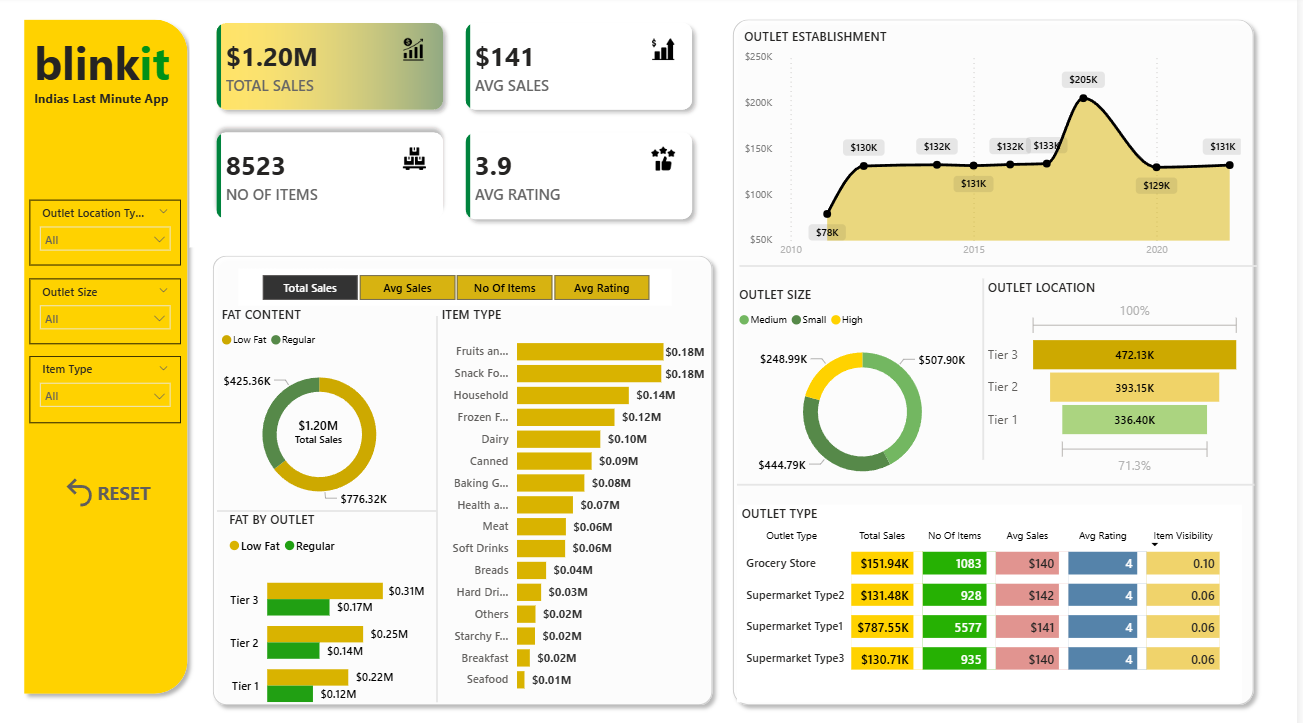

Layout of this report page (visuals, bound fields, positions):
{"tool":"powerbi","page":{"name":"Page 1","canvas":[1400,800],"ordinal":0},"visuals":[{"type":"shape","box":[25.5,16.1,193,741.3],"z":0},{"type":"textbox","box":[272.1,667.6,225.2,89.8],"z":1000},{"type":"textbox","box":[550.9,644.8,252,112.6],"z":2000},{"type":"textbox","box":[40.2,33.5,163.5,77.7],"z":3000},{"type":"textbox","box":[40.2,95.2,162.2,32.2],"z":4000},{"type":"cardVisual","fields":{"Data":["BlinkIT Grocery Data.Total Sales","BlinkIT Grocery Data.Avg Sales","BlinkIT Grocery Data.No Of Items","BlinkIT Grocery Data.Avg Rating"]},"box":[211.8,0,569.7,269.4],"z":5000},{"type":"shape","box":[227.9,269.4,553.6,500],"z":6000},{"type":"donutChart","title":"FAT CONTENT","fields":{"Y":["BlinkIT Grocery Data.Total Sales"],"Category":["BlinkIT Grocery Data.Item Fat Content"]},"box":[241.3,332.4,219.8,230.6],"z":7000},{"type":"slicer","fields":{"Values":["Metrics.Metrics"]},"box":[264.1,292.2,465.1,40.2],"z":8000},{"type":"cardVisual","fields":{"Data":["BlinkIT Grocery Data.Total Sales"]},"box":[289.5,424.9,122,83.1],"z":9000},{"type":"clusteredBarChart","title":"FAT BY OUTLET","fields":{"Y":["BlinkIT Grocery Data.Total Sales"],"Category":["BlinkIT Grocery Data.Outlet Location Type"],"Series":["BlinkIT Grocery Data.Item Fat Content"]},"box":[249.3,552.3,219.8,230.6],"z":10000},{"type":"shape","box":[241.3,530.8,235.9,42.9],"z":11000},{"type":"shape","box":[438.3,343.2,77.7,414.2],"z":12000},{"type":"barChart","title":"ITEM TYPE","fields":{"Y":["BlinkIT Grocery Data.Total Sales"],"Category":["BlinkIT Grocery Data.Item Type"]},"box":[477.2,332.4,292.2,424.9],"z":13000},{"type":"shape","box":[785.5,16.1,576.4,753.4],"z":14000},{"type":"lineChart","title":"OUTLET ESTABLISHMENT","fields":{"Y":["BlinkIT Grocery Data.Total Sales"],"Category":["BlinkIT Grocery Data.Outlet Establishment Year"]},"box":[801.6,33.5,542.9,256],"z":15000},{"type":"shape","box":[801.6,268.1,555,42.9],"z":16000},{"type":"donutChart","title":"OUTLET SIZE","fields":{"Y":["BlinkIT Grocery Data.Total Sales"],"Category":["BlinkIT Grocery Data.Outlet Size"]},"box":[796.3,311,274.8,225.2],"z":17000},{"type":"shape","box":[1024.1,303,77.7,194.4],"z":18000},{"type":"funnel","title":"OUTLET LOCATION","fields":{"Y":["Sum(BlinkIT Grocery Data.Sales)"],"Category":["BlinkIT Grocery Data.Outlet Location Type"]},"box":[1063,303,281.5,215.8],"z":19000},{"type":"shape","box":[798.9,502.7,555,42.9],"z":20000},{"type":"pivotTable","title":"OUTLET TYPE","fields":{"Rows":["BlinkIT Grocery Data.Outlet Type"],"Values":["BlinkIT Grocery Data.Total Sales","BlinkIT Grocery Data.No Of Items","BlinkIT Grocery Data.Avg Sales","BlinkIT Grocery Data.Avg Rating","Avg(BlinkIT Grocery Data.Item Visibility)"]},"box":[798.9,545.6,541.6,211.8],"z":21000},{"type":"slicer","fields":{"Values":["BlinkIT Grocery Data.Outlet Location Type"]},"box":[40.5,218.3,162.1,70.2],"z":22000},{"type":"slicer","fields":{"Values":["BlinkIT Grocery Data.Outlet Size"]},"box":[40.5,302.4,162.1,70.2],"z":23000},{"type":"slicer","fields":{"Values":["BlinkIT Grocery Data.Item Type"]},"box":[40.5,386.6,162.1,71.7],"z":24000},{"type":"actionButton","box":[73.7,512.1,100.5,40.2],"z":25000}]}

Visuals, with their boxes in screenshot pixels (x1, y1, x2, y2), scaled from the page's 1400x800 canvas onto the 1303x723 screenshot:
shape: box=[24, 15, 203, 685]
textbox: box=[253, 603, 463, 685]
textbox: box=[513, 583, 747, 685]
textbox: box=[37, 30, 190, 100]
textbox: box=[37, 86, 188, 115]
cardVisual - BlinkIT Grocery Data.Total Sales x BlinkIT Grocery Data.Avg Sales: box=[197, 0, 727, 243]
shape: box=[212, 243, 727, 695]
"FAT CONTENT" donutChart: box=[225, 300, 429, 509]
slicer - Metrics.Metrics: box=[246, 264, 679, 300]
cardVisual - BlinkIT Grocery Data.Total Sales: box=[269, 384, 383, 459]
"FAT BY OUTLET" clusteredBarChart: box=[232, 499, 437, 708]
shape: box=[225, 480, 444, 518]
shape: box=[408, 310, 480, 685]
"ITEM TYPE" barChart: box=[444, 300, 716, 684]
shape: box=[731, 15, 1268, 695]
"OUTLET ESTABLISHMENT" lineChart: box=[746, 30, 1251, 262]
shape: box=[746, 242, 1263, 281]
"OUTLET SIZE" donutChart: box=[741, 281, 997, 485]
shape: box=[953, 274, 1025, 450]
"OUTLET LOCATION" funnel: box=[989, 274, 1251, 469]
shape: box=[744, 454, 1260, 493]
"OUTLET TYPE" pivotTable: box=[744, 493, 1248, 685]
slicer - BlinkIT Grocery Data.Outlet Location Type: box=[38, 197, 189, 261]
slicer - BlinkIT Grocery Data.Outlet Size: box=[38, 273, 189, 337]
slicer - BlinkIT Grocery Data.Item Type: box=[38, 349, 189, 414]
actionButton: box=[69, 463, 162, 499]
